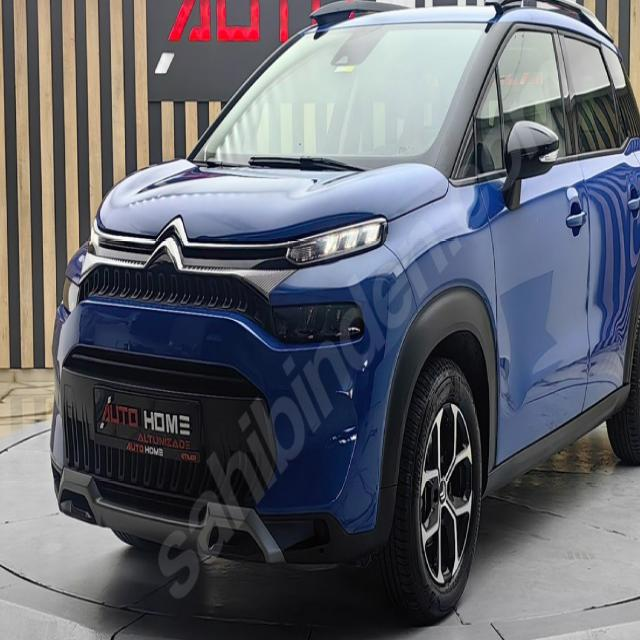citroen: (143, 210, 198, 284)
